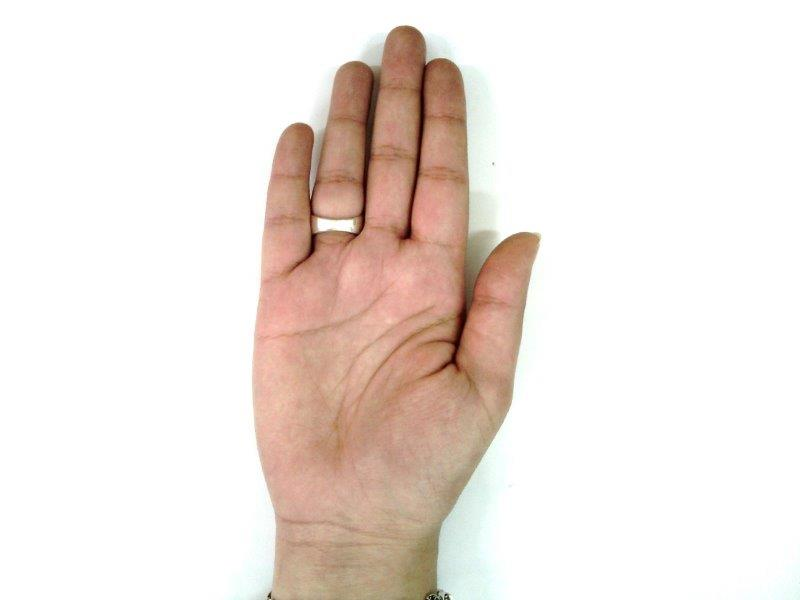hand: (251, 28, 539, 508)
